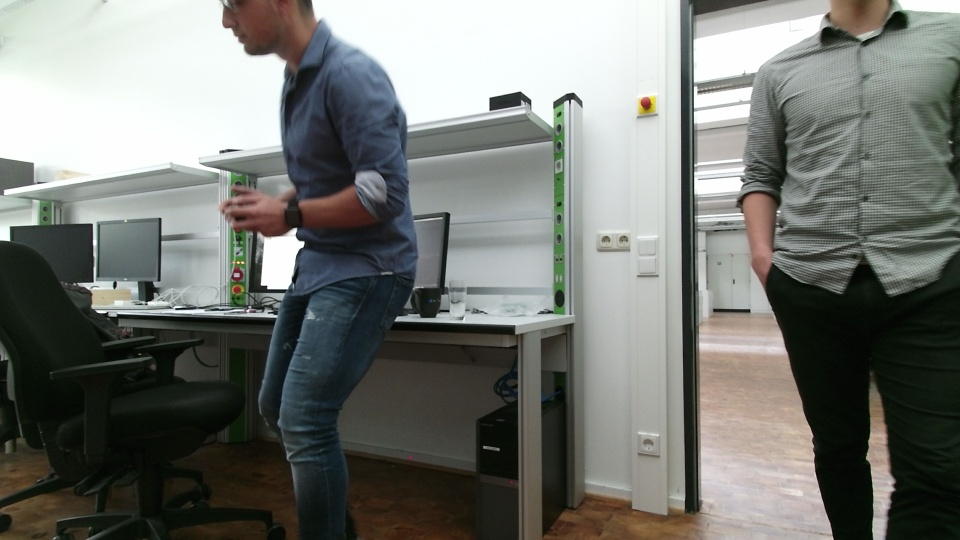Person: (724, 1, 960, 540), (214, 1, 430, 540)
